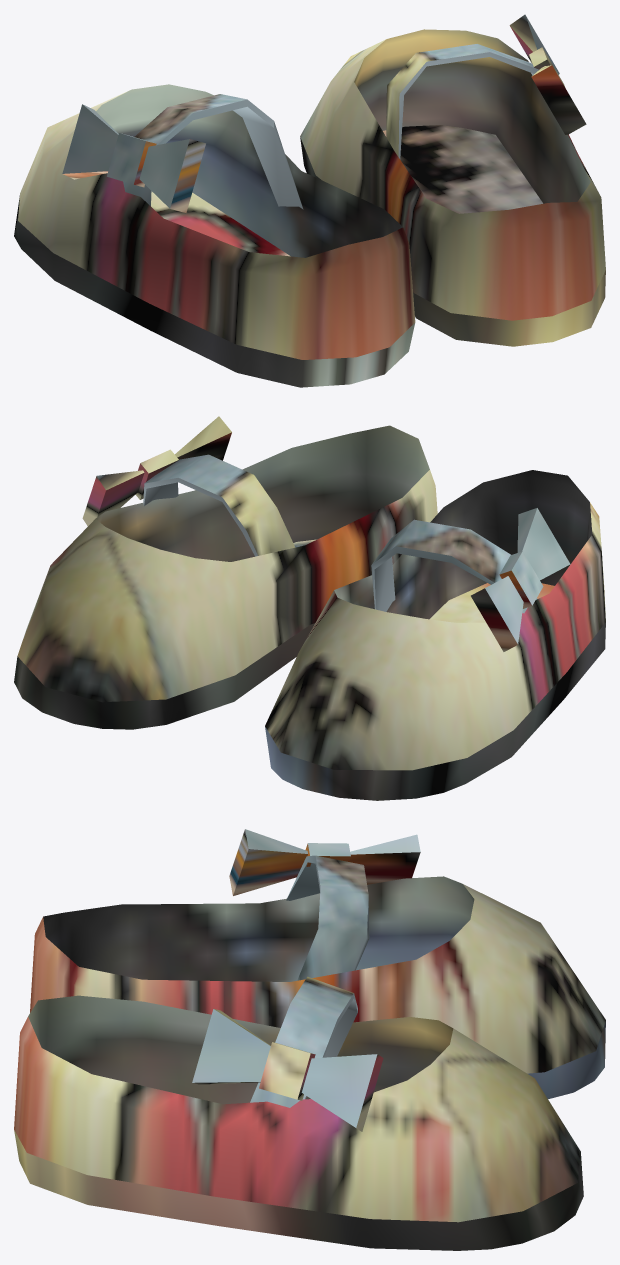
Rendered from icondata.0.obj.
3 renders of one model, top to bottom at view 1: azimuth 30°, elevation 25°; view 2: azimuth 150°, elevation 25°; view 3: azimuth 270°, elevation 25°, orthographic. The views are drawn at different scales.
Bounding box in the file's own units: 4.75 × 1.75 × 4.7.
